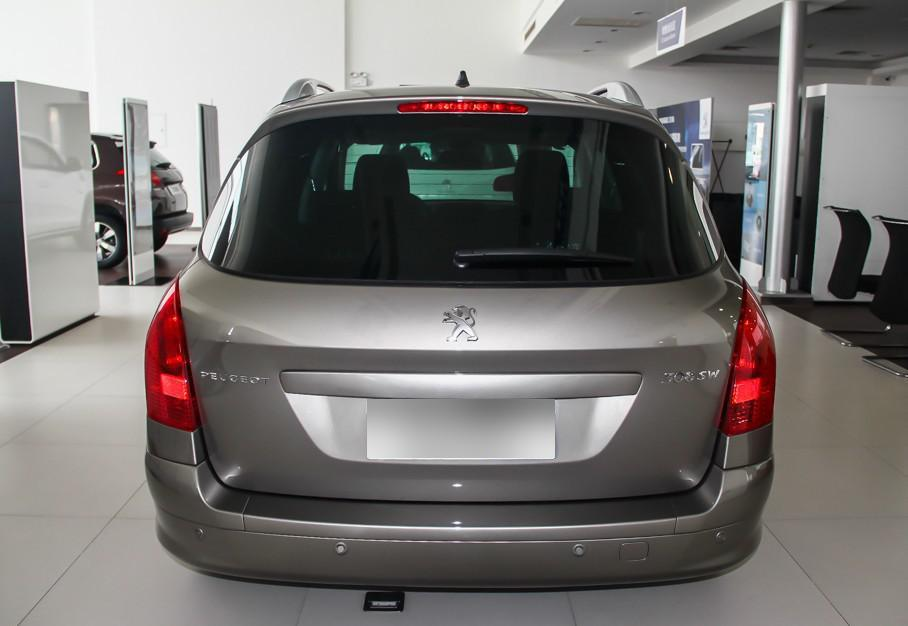Wagon: (143, 69, 778, 593)
